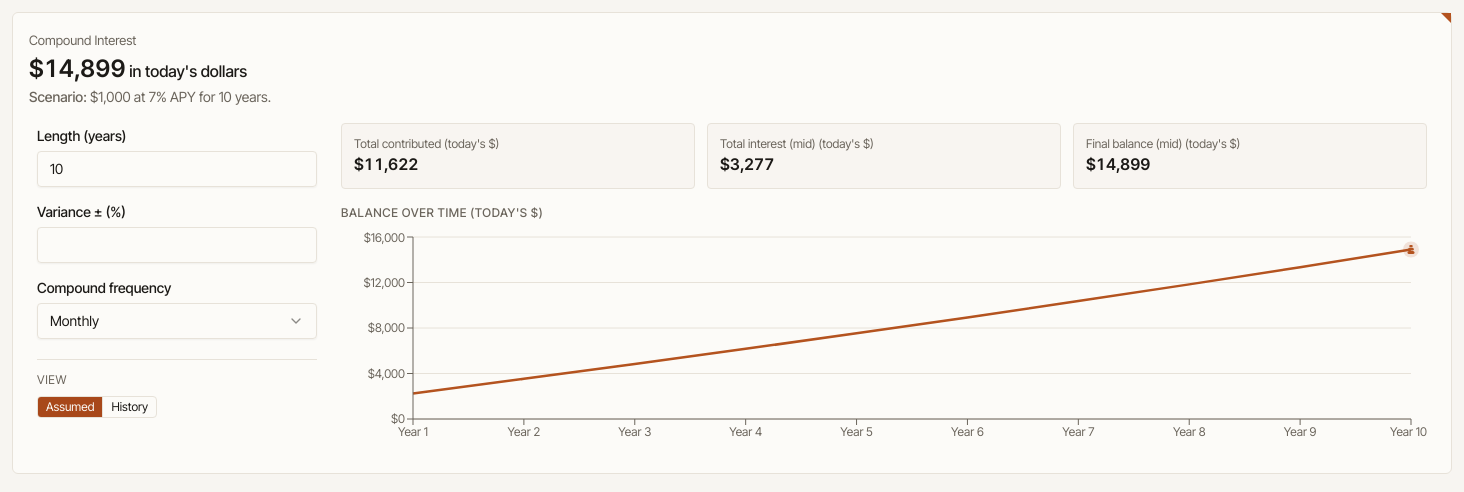
it: CompoundInterestCard — History view › degradation CH-5: years=140 ⇒ the too-few line (M=13), no fan
Step 1. Replace the text in the number field labelled "Length (years)" with "140" → (177,168), box [37,150,317,186]
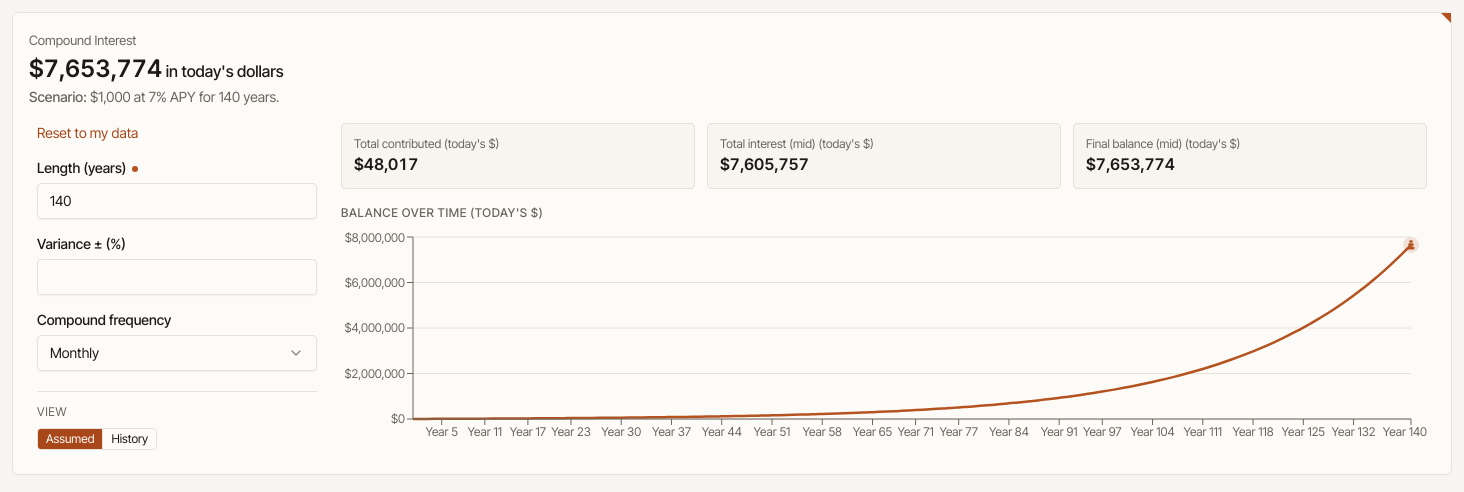
Step 2. Click the button "History" → (129,438), box [102,428,156,448]
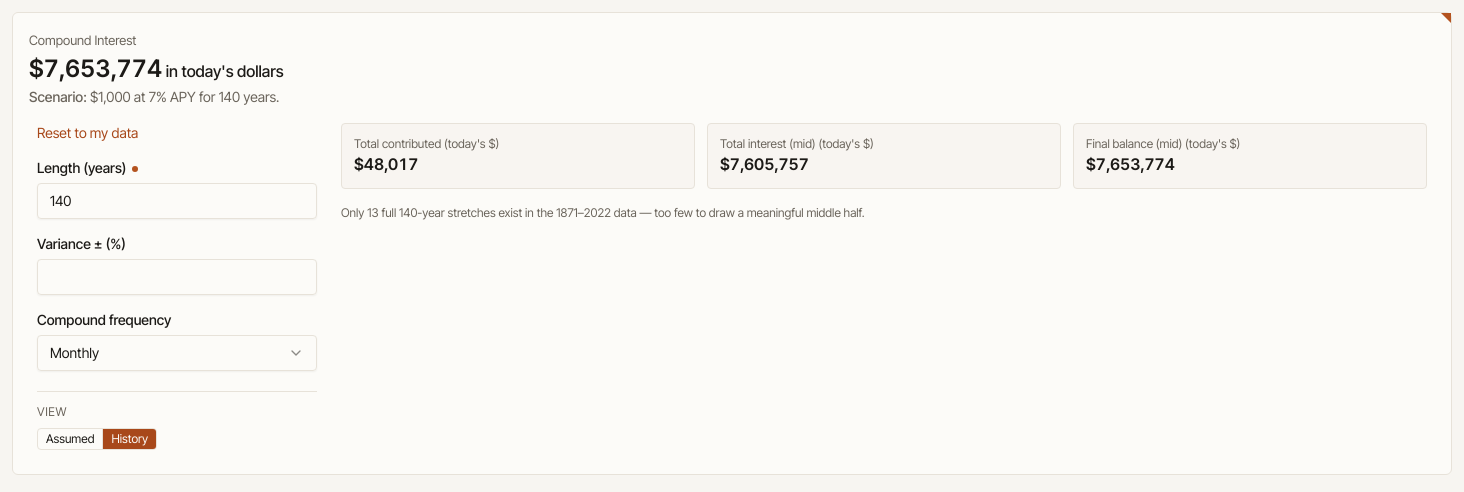
Now the text with test id "compound-history-degraded" shows "Only 13 full 140-year stretches exist in the 1871–2022 data — too few to draw a meaningful middle half.", box [341,204,865,220]
